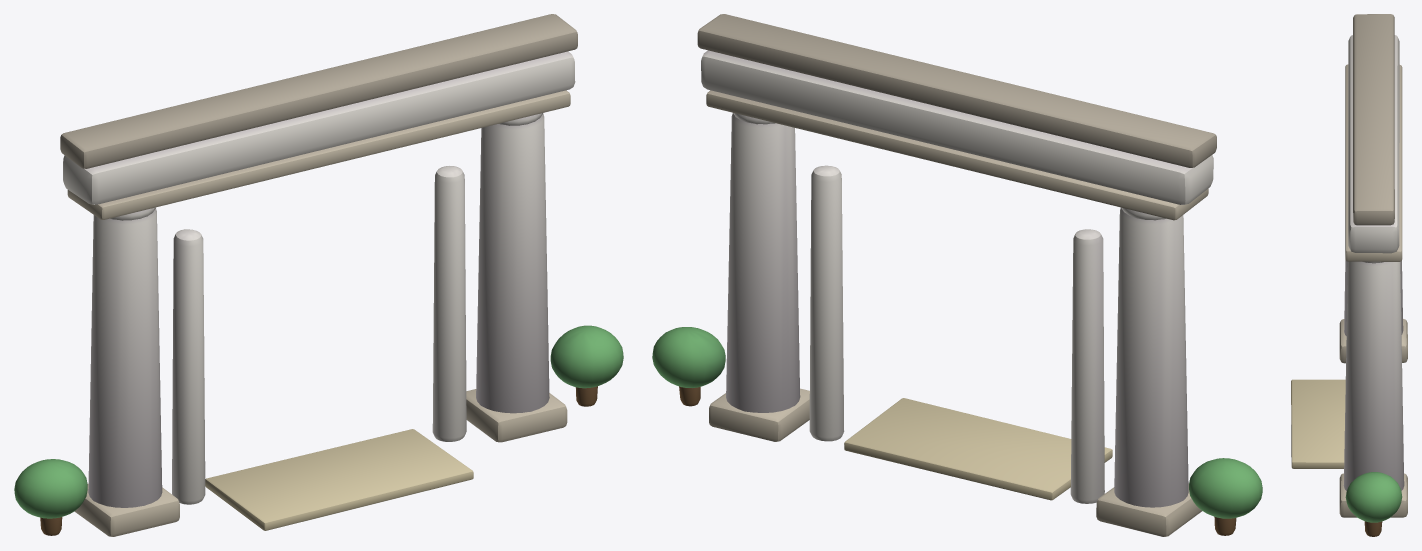
3 renders of one model, left to right at view 1: azimuth 30°, elevation 25°; view 2: azimuth 150°, elevation 25°; view 3: azimuth 270°, elevation 25°, orthographic. The views are drawn at different scales.
Visible parts, largest first — view 1: gate_5cd3cead; view 2: gate_5cd3cead; view 3: gate_5cd3cead.
Part boxes in pixels (x1=…): gate_5cd3cead: x1=14, y1=14, x2=623, y2=536; gate_5cd3cead: x1=652, y1=14, x2=1262, y2=536; gate_5cd3cead: x1=1291, y1=14, x2=1407, y2=536.
Bounding box in the file's own units: 6.89 × 4.25 × 1.42.
